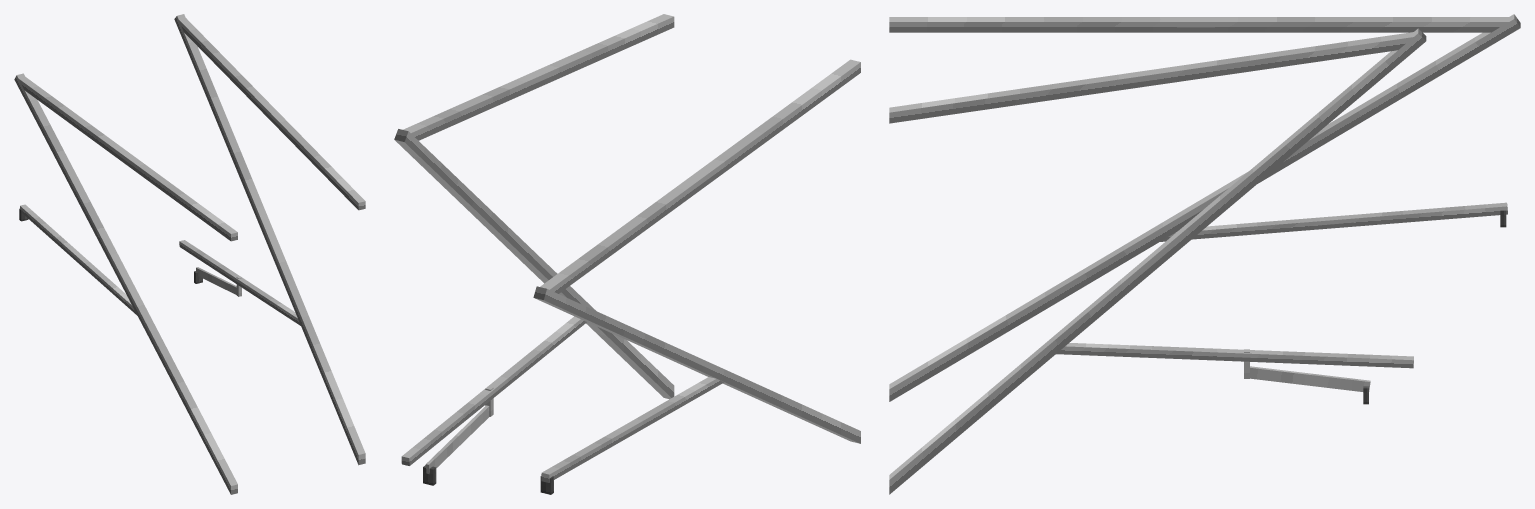
Rendered from cantilever_inner_8px.obj.
3 renders of one model, left to right at view 1: azimuth 30°, elevation 25°; view 2: azimuth 150°, elevation 25°; view 3: azimuth 270°, elevation 25°, orthographic. The views are drawn at different scales.
Visible parts, largest first — view 1: 04a613eb-da09-4566-9944-85d6b401800a, 7c434c0f-a7b8-4e55-92f5-95c4a150377a, 7545eef9-1a59-4159-8282-ce82824fc6b2, 388d24b7-af4e-4dcf-8682-ff9be2f7ce4a, 9c3753eb-03d1-4b84-bb7d-c431ac43b1b4, 0b1fe83c-003f-4366-b5b6-9f0645112417, f6170b4b-908d-4fd4-85b0-9d28a16c5c35; view 2: 7545eef9-1a59-4159-8282-ce82824fc6b2, 04a613eb-da09-4566-9944-85d6b401800a, 7c434c0f-a7b8-4e55-92f5-95c4a150377a, 388d24b7-af4e-4dcf-8682-ff9be2f7ce4a, 0b1fe83c-003f-4366-b5b6-9f0645112417, 9c3753eb-03d1-4b84-bb7d-c431ac43b1b4, f6170b4b-908d-4fd4-85b0-9d28a16c5c35; view 3: 04a613eb-da09-4566-9944-85d6b401800a, 7c434c0f-a7b8-4e55-92f5-95c4a150377a, 7545eef9-1a59-4159-8282-ce82824fc6b2, 388d24b7-af4e-4dcf-8682-ff9be2f7ce4a, 0b1fe83c-003f-4366-b5b6-9f0645112417, 9c3753eb-03d1-4b84-bb7d-c431ac43b1b4, f6170b4b-908d-4fd4-85b0-9d28a16c5c35.
Boxes of the visible parts, x1,y1,x2,y2 form: 04a613eb-da09-4566-9944-85d6b401800a: [174, 14, 365, 465]; 7c434c0f-a7b8-4e55-92f5-95c4a150377a: [14, 73, 237, 494]; 7545eef9-1a59-4159-8282-ce82824fc6b2: [18, 76, 237, 241]; 388d24b7-af4e-4dcf-8682-ff9be2f7ce4a: [178, 17, 365, 210]; 9c3753eb-03d1-4b84-bb7d-c431ac43b1b4: [20, 204, 137, 315]; 0b1fe83c-003f-4366-b5b6-9f0645112417: [179, 240, 300, 325]; f6170b4b-908d-4fd4-85b0-9d28a16c5c35: [196, 267, 236, 294]; 7545eef9-1a59-4159-8282-ce82824fc6b2: [540, 59, 860, 293]; 04a613eb-da09-4566-9944-85d6b401800a: [394, 129, 674, 399]; 7c434c0f-a7b8-4e55-92f5-95c4a150377a: [533, 286, 860, 443]; 388d24b7-af4e-4dcf-8682-ff9be2f7ce4a: [403, 14, 674, 140]; 0b1fe83c-003f-4366-b5b6-9f0645112417: [401, 316, 586, 465]; 9c3753eb-03d1-4b84-bb7d-c431ac43b1b4: [541, 377, 723, 482]; f6170b4b-908d-4fd4-85b0-9d28a16c5c35: [425, 405, 489, 474]; 04a613eb-da09-4566-9944-85d6b401800a: [889, 28, 1426, 494]; 7c434c0f-a7b8-4e55-92f5-95c4a150377a: [889, 14, 1520, 401]; 7545eef9-1a59-4159-8282-ce82824fc6b2: [889, 17, 1509, 32]; 388d24b7-af4e-4dcf-8682-ff9be2f7ce4a: [889, 32, 1413, 123]; 0b1fe83c-003f-4366-b5b6-9f0645112417: [1056, 343, 1413, 368]; 9c3753eb-03d1-4b84-bb7d-c431ac43b1b4: [1160, 202, 1507, 241]; f6170b4b-908d-4fd4-85b0-9d28a16c5c35: [1250, 366, 1370, 391].
Size of the model in its own units: 1.19 by 2.67 by 3.31.
